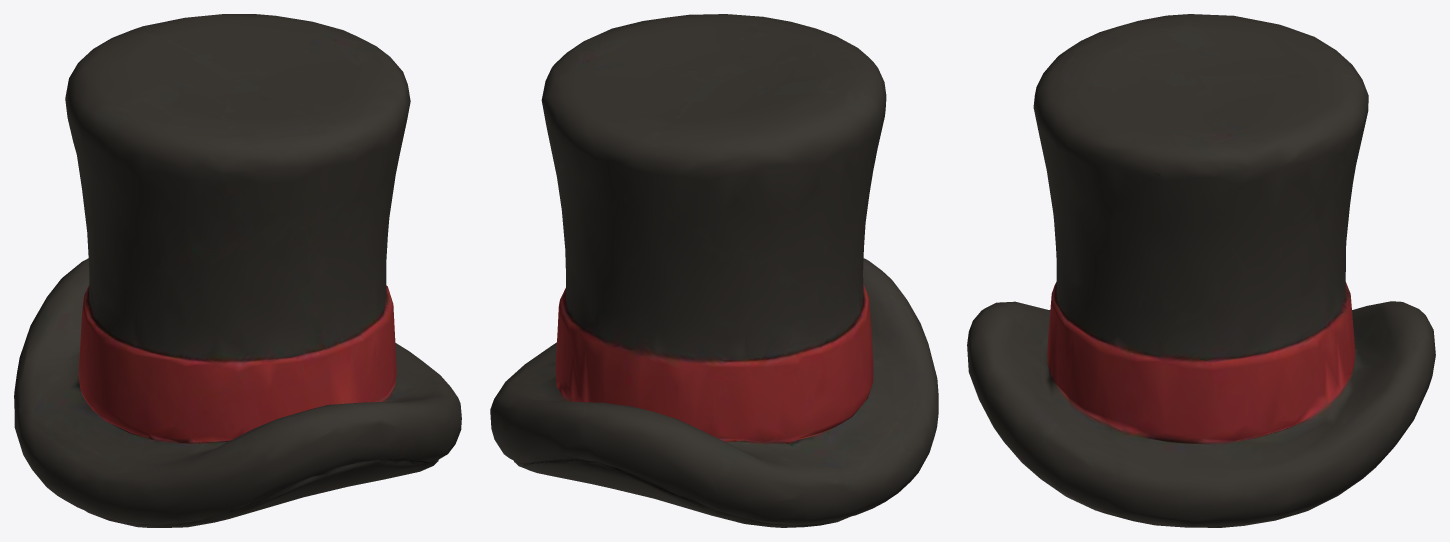
File: hat-top.glb
The picture shows the model from 3 angles, left to right: view 1: azimuth 30°, elevation 25°; view 2: azimuth 150°, elevation 25°; view 3: azimuth 270°, elevation 25°; orthographic projection. The views are drawn at different scales.
Visible parts, largest first — view 1: tripo_node_919c35c9-e118-43e2-b817-4f0f212334aa; view 2: tripo_node_919c35c9-e118-43e2-b817-4f0f212334aa; view 3: tripo_node_919c35c9-e118-43e2-b817-4f0f212334aa.
Part boxes in pixels (box(x1,y1,x2,y2)): tripo_node_919c35c9-e118-43e2-b817-4f0f212334aa: box(14, 14, 461, 527); tripo_node_919c35c9-e118-43e2-b817-4f0f212334aa: box(490, 14, 938, 527); tripo_node_919c35c9-e118-43e2-b817-4f0f212334aa: box(967, 14, 1435, 527).
Size of the model in its own units: 0.9087 by 0.8923 by 1.
Materials: 1 (1 with a texture image).
